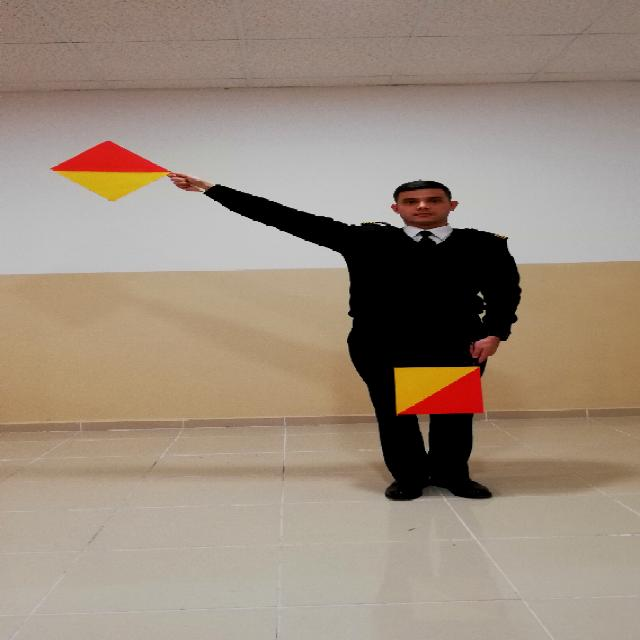C: (40, 132, 566, 521)
